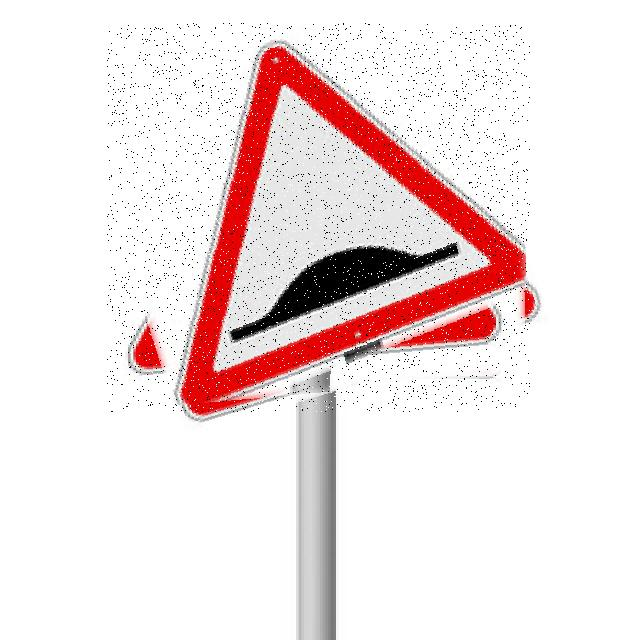hump: (107, 23, 530, 412)
